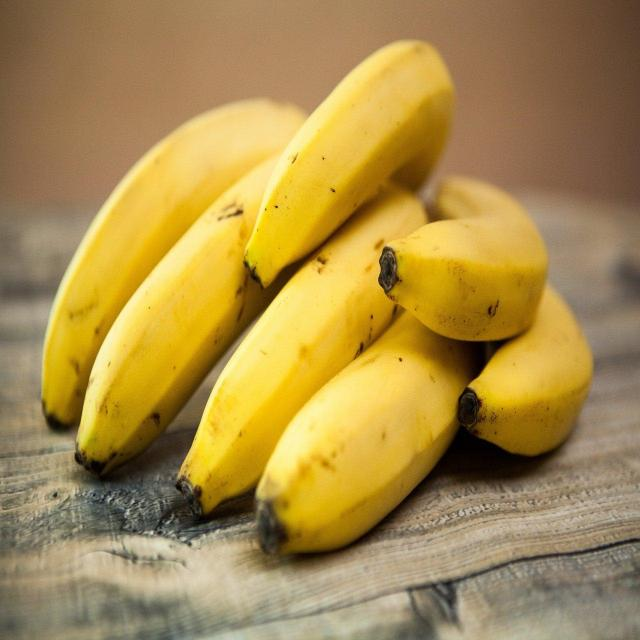banana: (30, 22, 605, 580)
